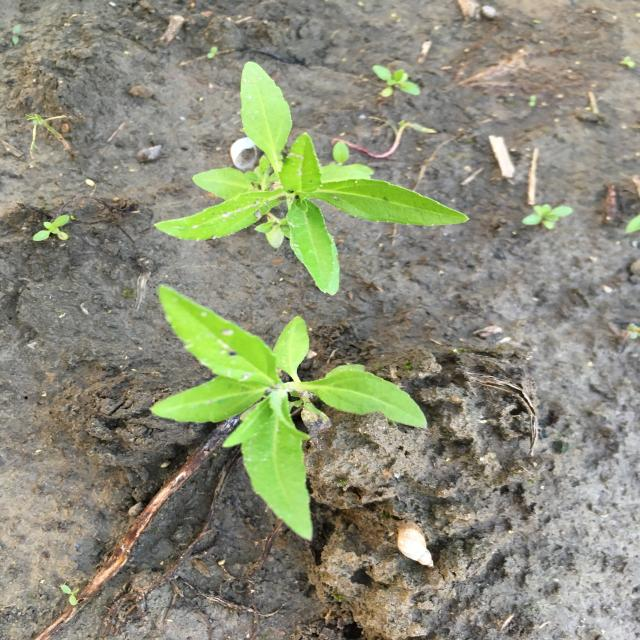Eclipta: (151, 58, 471, 296), (148, 283, 430, 544)
